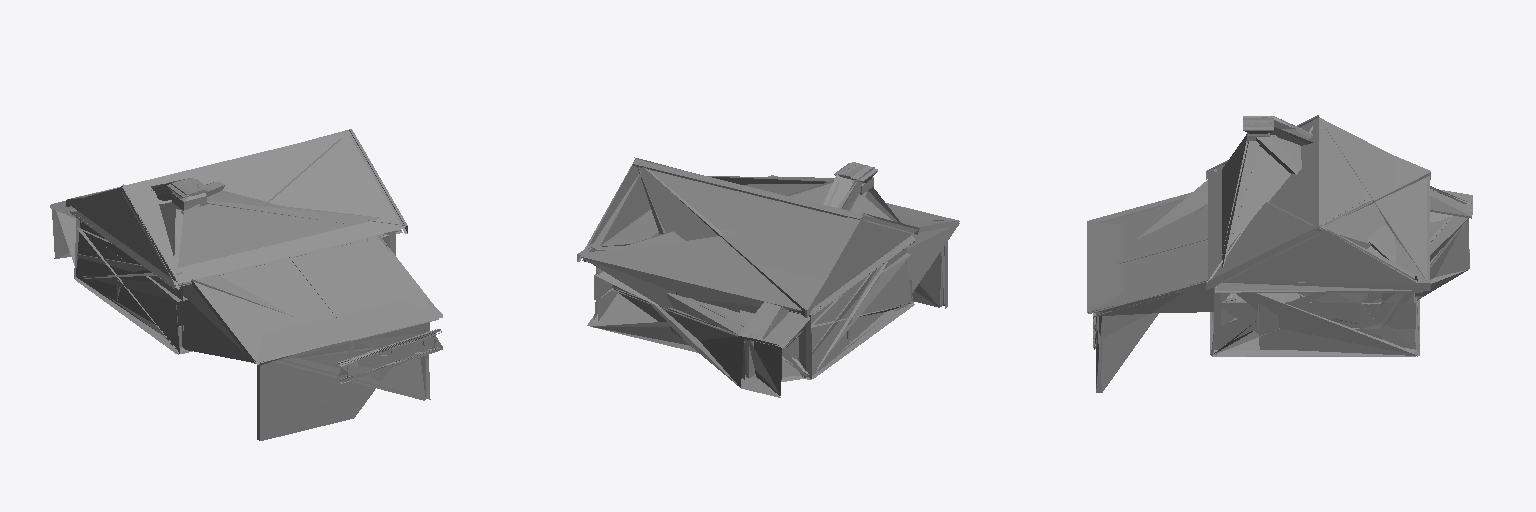
File: houseobj.obj
The picture shows the model from 3 angles: view 1: azimuth 30°, elevation 25°; view 2: azimuth 150°, elevation 25°; view 3: azimuth 270°, elevation 25°; orthographic projection.
Parts seen in each view (by area): view 1: house, Cylinder001; view 2: house, Cylinder001, fireplace; view 3: house, Cylinder001, fireplace.
Part boxes in pixels (bbox=[...]): house: bbox=[51, 129, 442, 440]; Cylinder001: bbox=[50, 178, 402, 288]; house: bbox=[577, 157, 959, 397]; Cylinder001: bbox=[583, 162, 914, 347]; fireplace: bbox=[731, 162, 877, 346]; house: bbox=[1087, 115, 1472, 392]; Cylinder001: bbox=[1215, 116, 1471, 291]; fireplace: bbox=[1243, 116, 1472, 214].
Bounding box in the file's own units: 119 × 95.43 × 172.